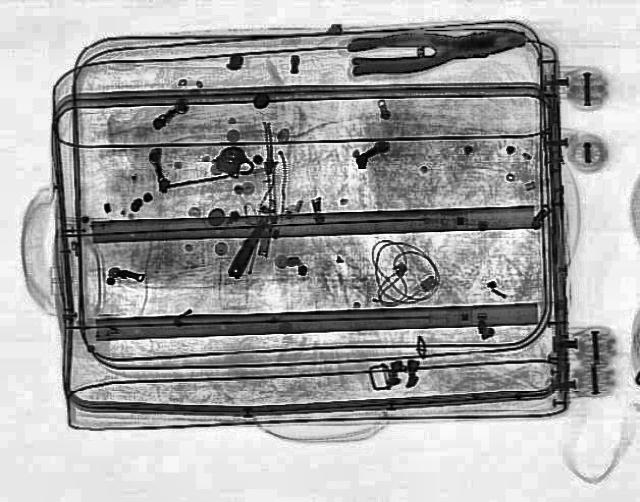Pliers: (340, 18, 532, 78)
